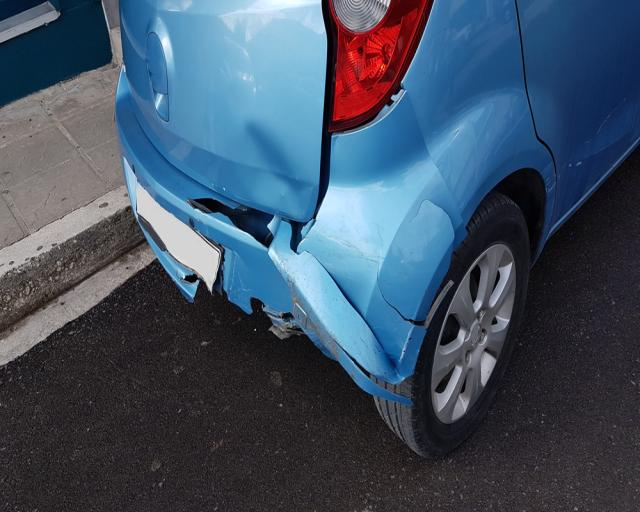crack: (329, 334, 412, 400), (186, 197, 275, 250), (376, 252, 426, 328), (407, 199, 455, 252), (282, 216, 312, 257), (176, 265, 198, 283)
dent: (216, 122, 310, 216)
